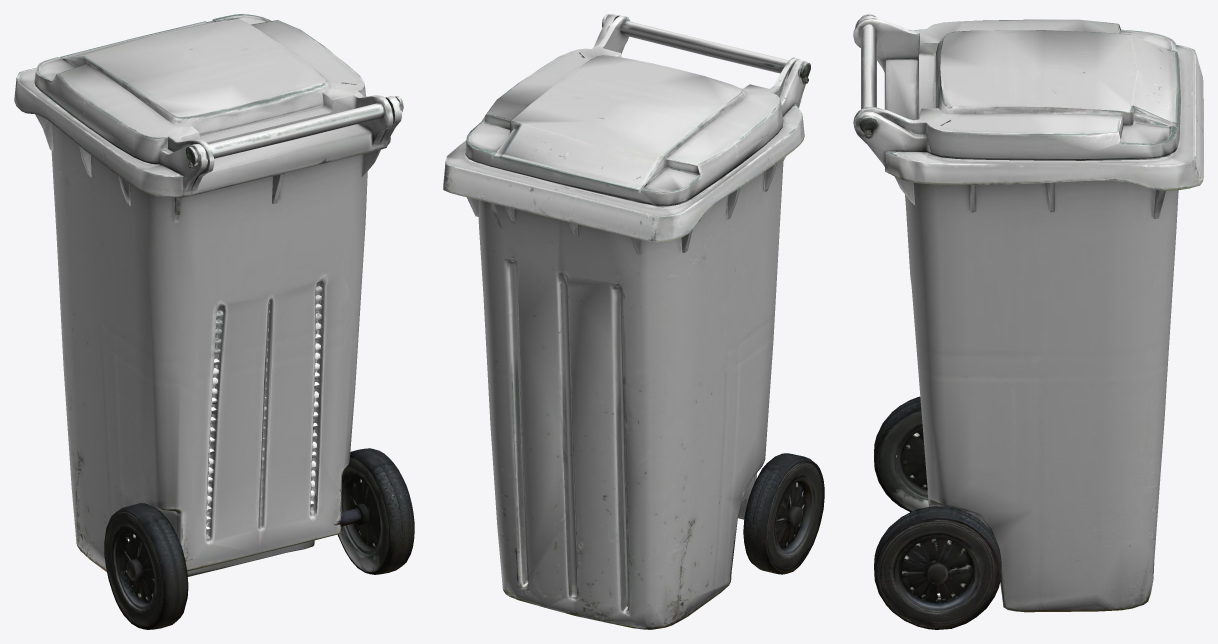
Rendered from bin.glb.
3 views of the same model, side by side, from view 1: azimuth 30°, elevation 25°; view 2: azimuth 150°, elevation 25°; view 3: azimuth 270°, elevation 25° (orthographic). The views are drawn at different scales.
Visible parts, largest first — view 1: bin; view 2: bin; view 3: bin.
Boxes of the visible parts, x1,y1,x2,y2 form: bin: (14, 14, 414, 629); bin: (443, 14, 824, 629); bin: (853, 14, 1203, 629).
Size of the model in its own units: 0.5734 by 1.07 by 0.6708.
1 material, 1 textured.
